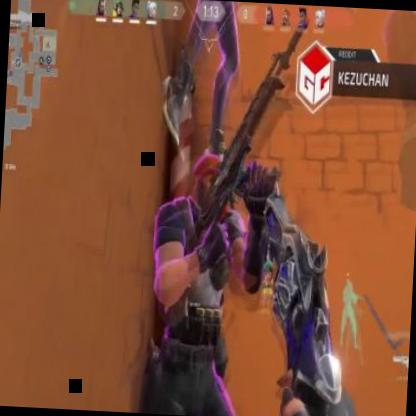enemy: (136, 151, 280, 416), (158, 0, 241, 158)
enemy_head: (191, 152, 226, 213)
